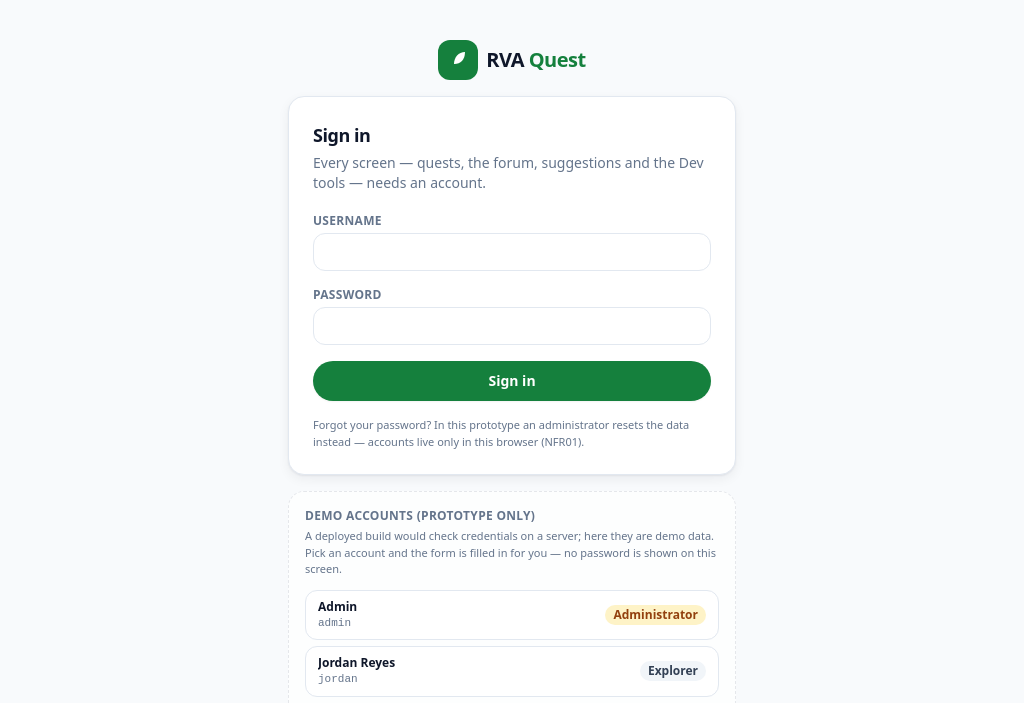
Test: App — the signed-out gate › signing out puts the gate back and forgets the URL the last account opened
Type "admin" into the field labelled "Username" at coordinates (512, 252), box [313,233,711,271]
Type "admin" into the password field labelled "Password" at coordinates (512, 326), box [313,307,711,345]
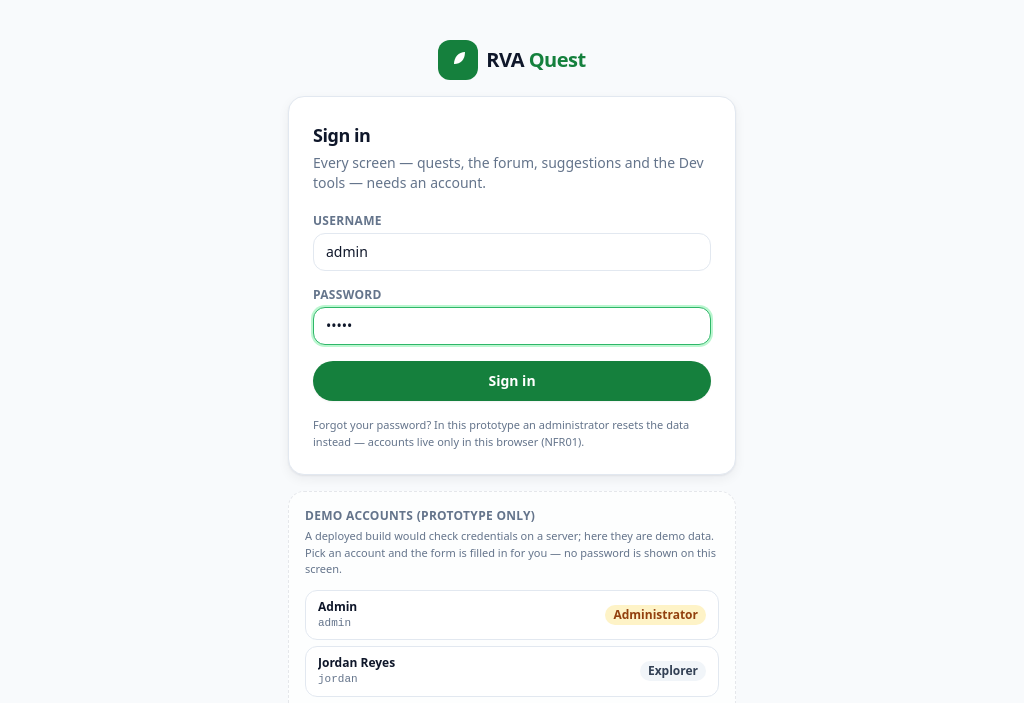
Click the button "Sign in" at coordinates (512, 381), box [313,361,711,401]
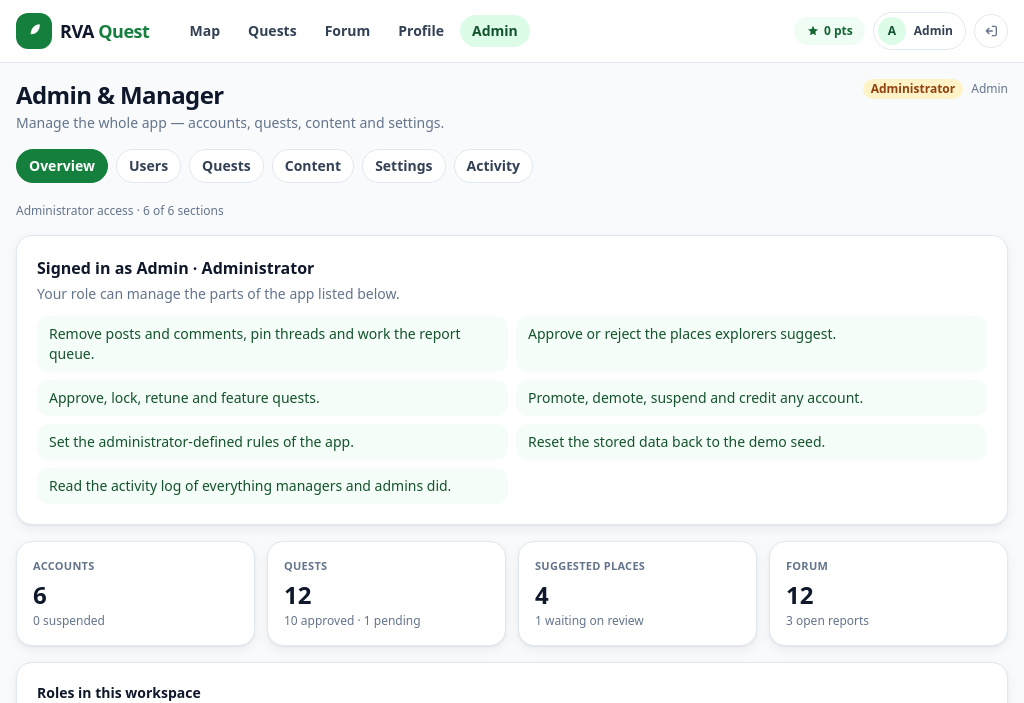
Click the button named "sign out of admin" at coordinates (991, 31), box [974,14,1008,48]
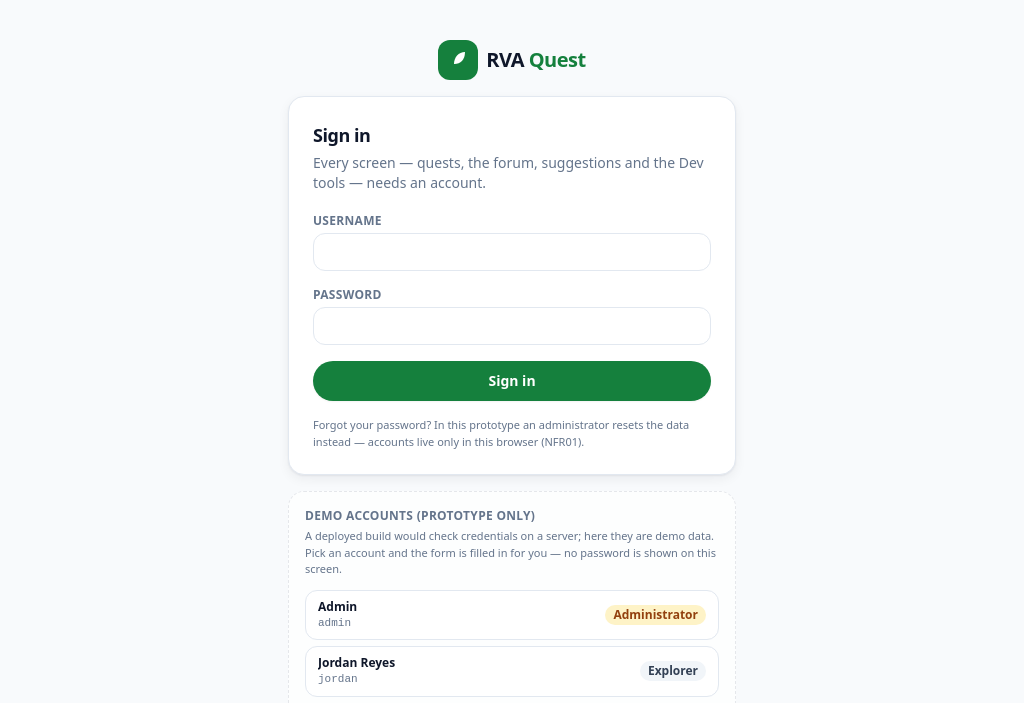
Now the heading "Sign in" is shown, box [313,123,370,147]
Type "jordan" into the field labelled "Username" at coordinates (512, 252), box [313,233,711,271]
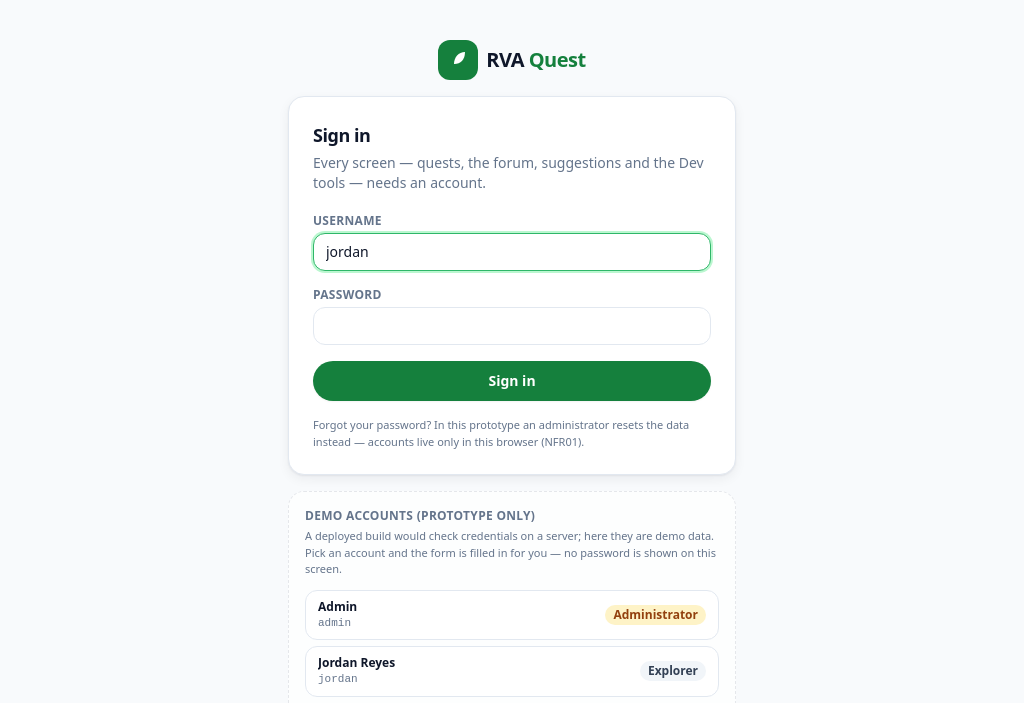
Type "rvaquest" into the password field labelled "Password" at coordinates (512, 326), box [313,307,711,345]
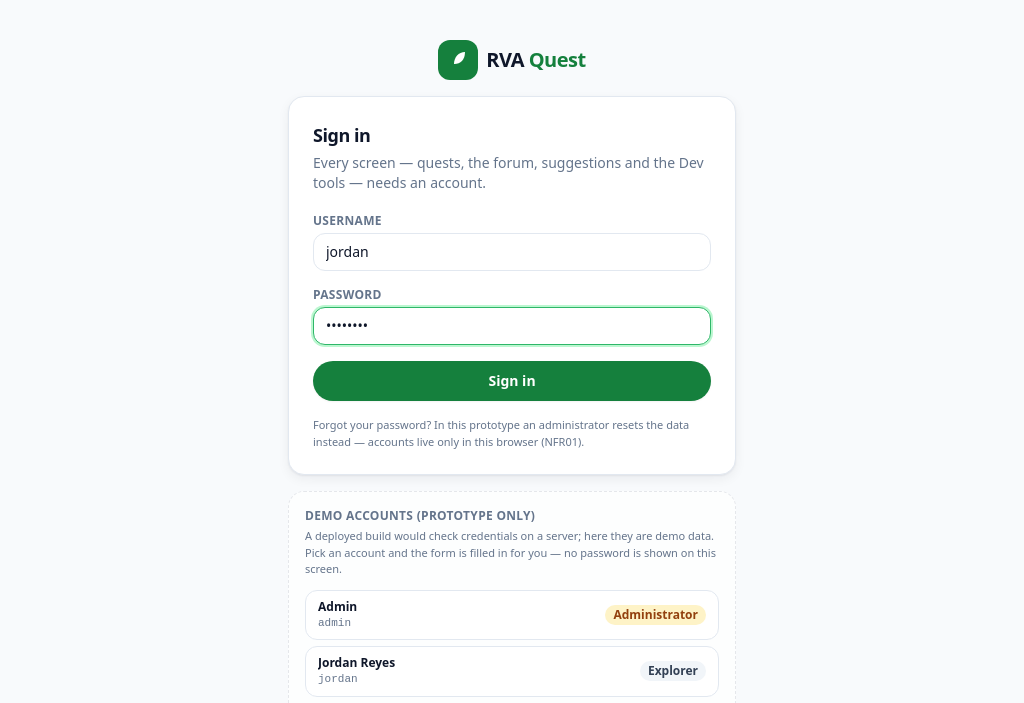
Click the button "Sign in" at coordinates (512, 381), box [313,361,711,401]
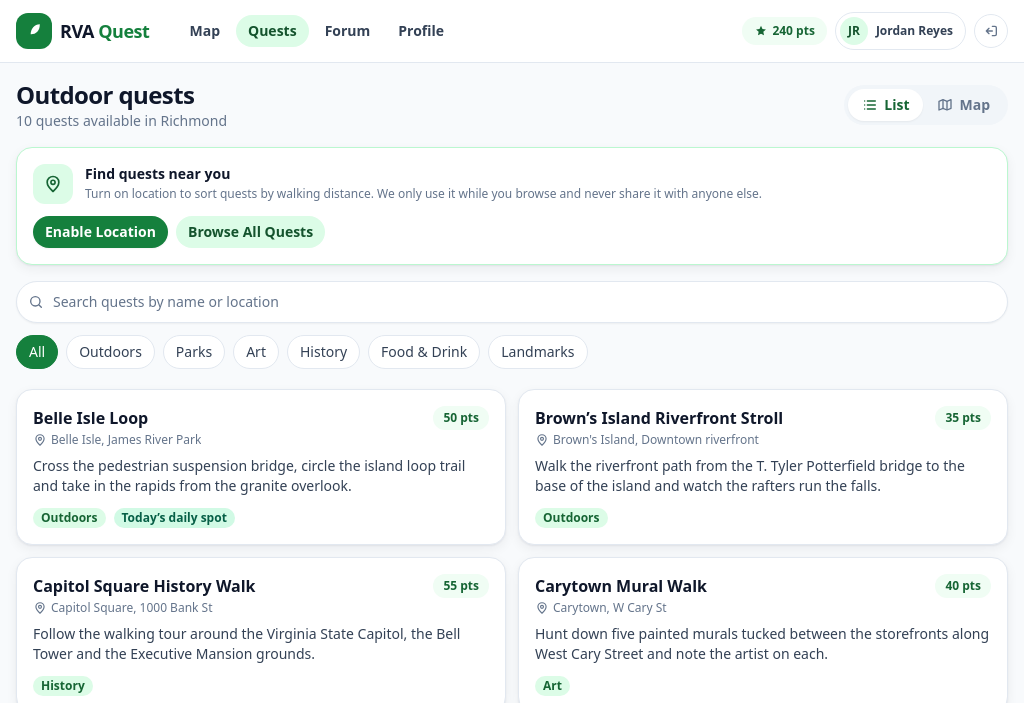
Expected: the heading "Admin & Manager" is not shown
Now the heading "Outdoor quests" is shown, box [16,78,194,111]
